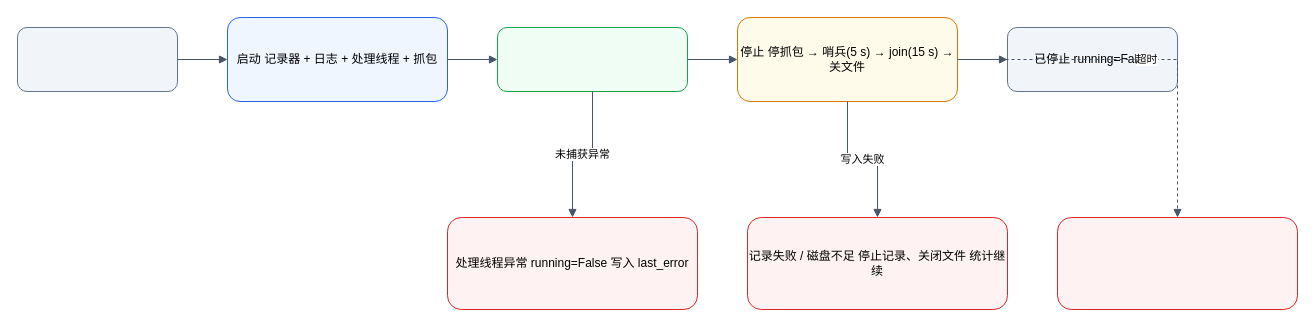
The diagram is 1315 pixels wide and 327 high, and some of its shapes have lost their labels. The shapes that lost their labels are listed below. From the top down, each one's box as (x1, y1, x2, y2) in pixels, then its label:
(16, 26, 178, 92): 未启动
(496, 26, 688, 92): 运行中 running=True
(1056, 216, 1298, 310): 线程超时未停 保留文件不关闭 记录错误
